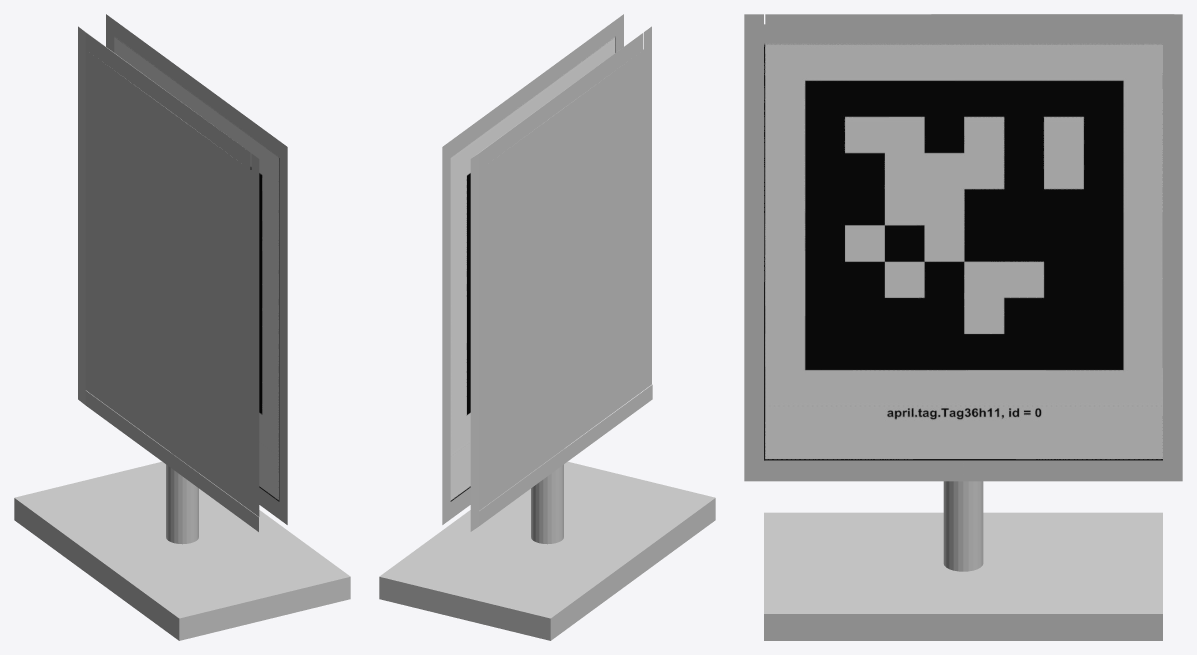
The model's file is tag0.dae.
3 views of the same model, side by side, from view 1: azimuth 30°, elevation 25°; view 2: azimuth 150°, elevation 25°; view 3: azimuth 270°, elevation 25° (orthographic). The views are drawn at different scales.
Visible parts, largest first — view 1: Component_2 (×4), image_0; view 2: Component_2 (×4), image_0; view 3: image_0, Component_2 (×4).
Part boxes in pixels (x1,y1,x2,y2): Component_2 (×4): (14, 14, 350, 640); image_0: (114, 36, 279, 501); Component_2 (×4): (379, 14, 715, 640); image_0: (450, 36, 615, 501); image_0: (764, 43, 1162, 460); Component_2 (×4): (744, 14, 1182, 640).
Bounding box in the file's own units: 9.45 × 17.32 × 25.04.
2 materials, 1 textured.
